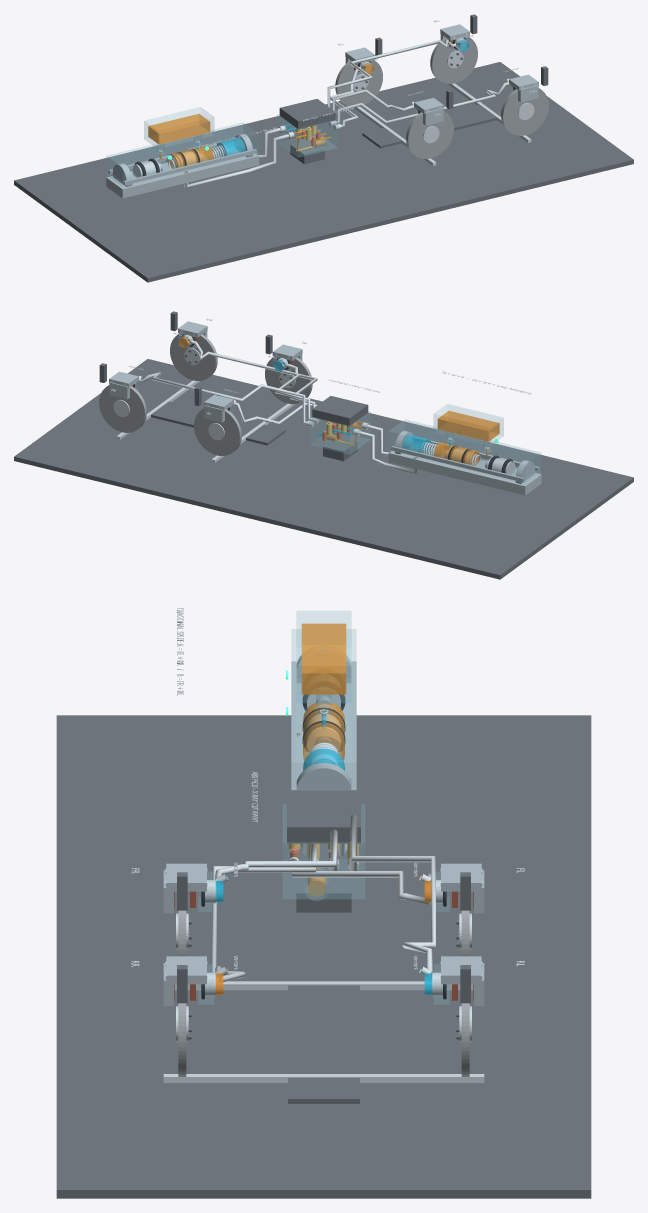
File: brakes_abs_off.glb
3 views of the same model, one above another, from view 1: azimuth 30°, elevation 25°; view 2: azimuth 150°, elevation 25°; view 3: azimuth 270°, elevation 25° (orthographic). The views are drawn at different scales.
Parts seen in each view (by area): view 1: WEB_Studio floor, WEB_Master cylinder transparent upper shell, WEB_Master cylinder lower solid housing, WEB_Reservoir translucent body, WEB_Vehicle chassis reference, WEB_ABS HCU XRAY transparent valve block, WEB_RR brake rotor, WEB_FR brake rotor, WEB_RL brake rotor, WEB_Reservoir amber brake fluid level, WEB_ABS electronic controller black module, WEB_FL brake rotor (+6 smaller); view 2: WEB_Studio floor, WEB_Master cylinder transparent upper shell, WEB_Master cylinder lower solid housing, WEB_Reservoir translucent body, WEB_Vehicle chassis reference, WEB_ABS HCU XRAY transparent valve block, WEB_RL brake rotor, WEB_FL brake rotor, WEB_RR brake rotor, WEB_Reservoir amber brake fluid level, WEB_ABS electronic controller black module, WEB_FR brake rotor (+5 smaller); view 3: WEB_Studio floor, WEB_Vehicle chassis reference, WEB_Master cylinder transparent upper shell, WEB_Reservoir translucent body, WEB_ABS electronic controller black module, WEB_Reservoir amber brake fluid level, WEB_ABS HCU XRAY transparent valve block, WEB_REAR axle reference, WEB_ABS electric pump motor housing, WEB_FRONT axle reference, WEB_V6 STAGGERED RL metal brake line, WEB_Primary pressure chamber fluid (+9 smaller).
Part boxes in pixels (x1=…): WEB_Studio floor: x1=14, y1=62, x2=633, y2=282; WEB_Master cylinder transparent upper shell: x1=106, y1=122, x2=258, y2=186; WEB_Master cylinder lower solid housing: x1=106, y1=149, x2=259, y2=198; WEB_Reservoir translucent body: x1=144, y1=107, x2=214, y2=148; WEB_Vehicle chassis reference: x1=362, y1=98, x2=505, y2=148; WEB_ABS HCU XRAY transparent valve block: x1=277, y1=114, x2=337, y2=157; WEB_RR brake rotor: x1=501, y1=88, x2=548, y2=135; WEB_FR brake rotor: x1=406, y1=111, x2=453, y2=158; WEB_RL brake rotor: x1=430, y1=36, x2=477, y2=83; WEB_Reservoir amber brake fluid level: x1=148, y1=114, x2=210, y2=144; WEB_ABS electronic controller black module: x1=279, y1=99, x2=335, y2=129; WEB_FL brake rotor: x1=335, y1=59, x2=382, y2=105; WEB_Studio floor: x1=14, y1=359, x2=633, y2=579; WEB_Master cylinder transparent upper shell: x1=389, y1=419, x2=541, y2=483; WEB_Master cylinder lower solid housing: x1=388, y1=446, x2=541, y2=495; WEB_Reservoir translucent body: x1=433, y1=404, x2=503, y2=445; WEB_Vehicle chassis reference: x1=142, y1=395, x2=285, y2=445; WEB_ABS HCU XRAY transparent valve block: x1=310, y1=411, x2=370, y2=454; WEB_RL brake rotor: x1=99, y1=385, x2=146, y2=432; WEB_FL brake rotor: x1=194, y1=408, x2=241, y2=455; WEB_RR brake rotor: x1=170, y1=333, x2=217, y2=380; WEB_Reservoir amber brake fluid level: x1=437, y1=411, x2=499, y2=441; WEB_ABS electronic controller black module: x1=312, y1=396, x2=368, y2=426; WEB_FR brake rotor: x1=265, y1=356, x2=312, y2=404; WEB_Studio floor: x1=56, y1=715, x2=591, y2=1198; WEB_Vehicle chassis reference: x1=288, y1=961, x2=359, y2=1103; WEB_Master cylinder transparent upper shell: x1=291, y1=629, x2=356, y2=789; WEB_Reservoir translucent body: x1=296, y1=611, x2=351, y2=702; WEB_ABS electronic controller black module: x1=287, y1=790, x2=360, y2=843; WEB_Reservoir amber brake fluid level: x1=301, y1=623, x2=346, y2=694; WEB_ABS HCU XRAY transparent valve block: x1=283, y1=804, x2=364, y2=898; WEB_REAR axle reference: x1=163, y1=1074, x2=484, y2=1082; WEB_ABS electric pump motor housing: x1=296, y1=877, x2=351, y2=912; WEB_FRONT axle reference: x1=174, y1=981, x2=473, y2=990; WEB_V6 STAGGERED RL metal brake line: x1=350, y1=815, x2=435, y2=973; WEB_Primary pressure chamber fluid: x1=303, y1=703, x2=344, y2=760.
Size of the model in its own units: 21 by 3.84 by 10.
